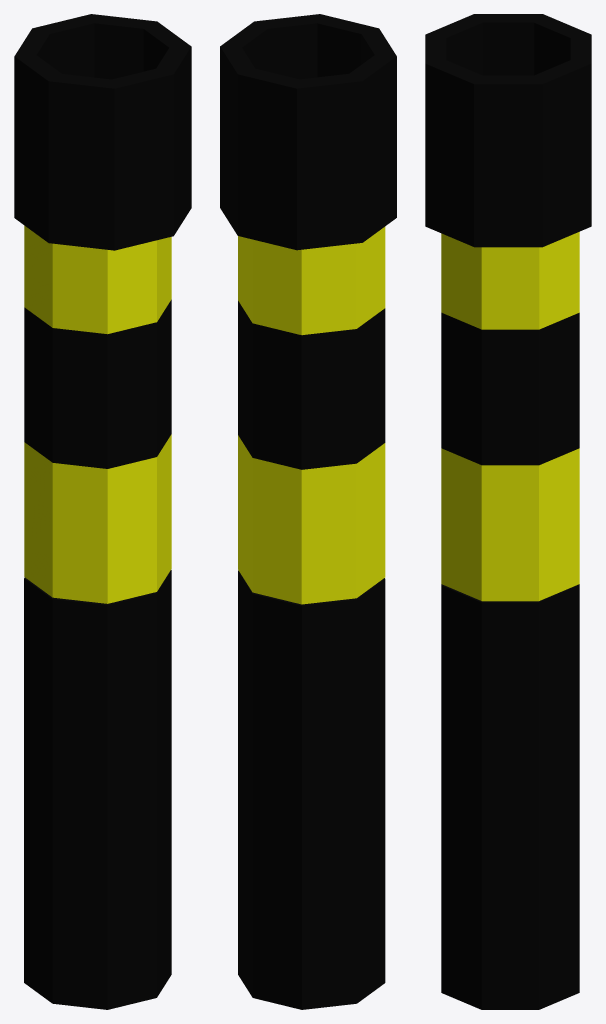
File: Nozzle01.fbx
3 renders of one model, left to right at view 1: azimuth 30°, elevation 25°; view 2: azimuth 150°, elevation 25°; view 3: azimuth 270°, elevation 25°, orthographic.
Parts seen in each view (by area): view 1: Nozzle01; view 2: Nozzle01; view 3: Nozzle01.
Boxes of the visible parts, x1,y1,x2,y2 form: Nozzle01: (14,14,191,1009); Nozzle01: (220,14,396,1009); Nozzle01: (425,14,591,1009).
Bounding box in the file's own units: 22.17 × 138 × 22.17.
